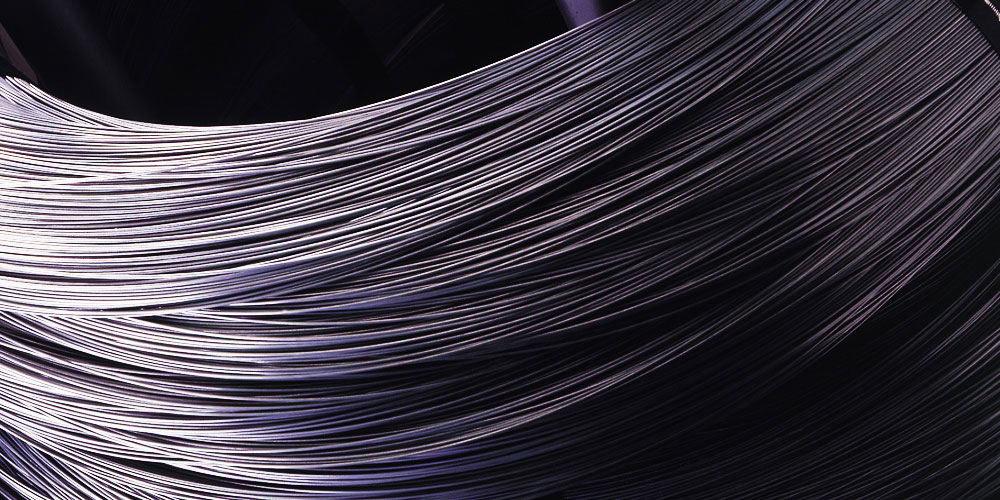Nonrec_Tangler: (25, 84, 983, 472)
